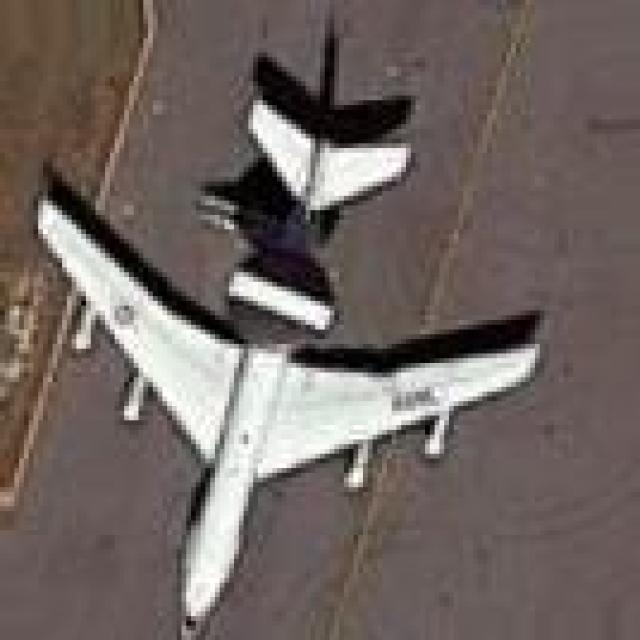E-3_TopDown: (29, 0, 549, 635)
